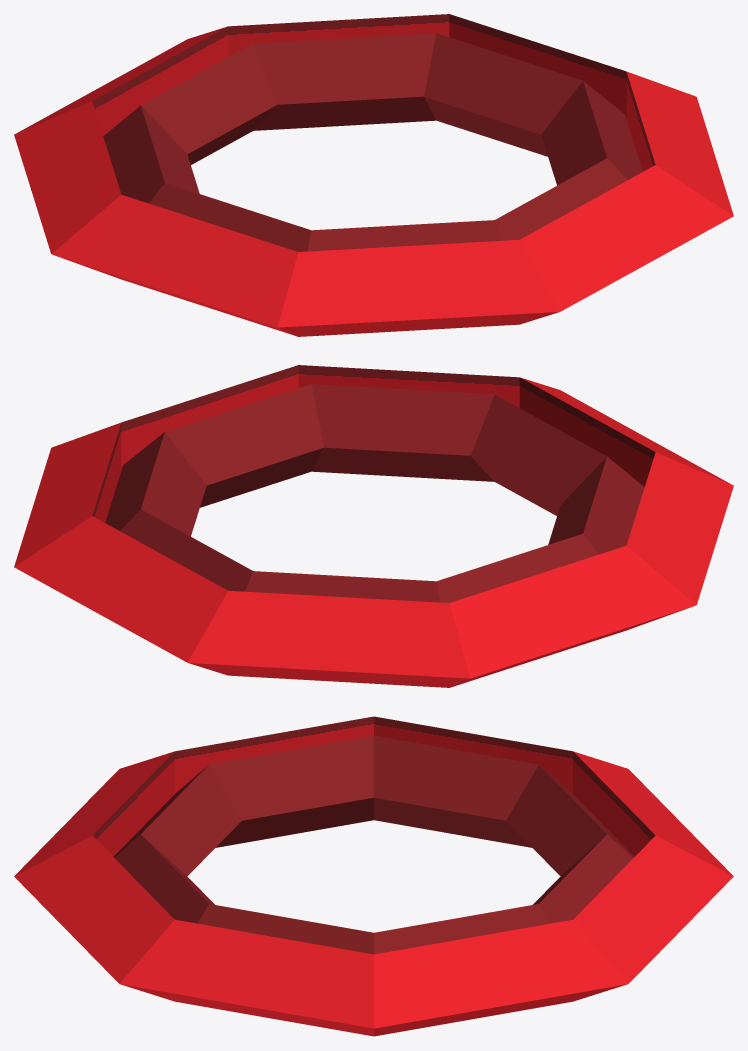
The model's file is projector_ring.obj.
3 views of the same model, one above another, from view 1: azimuth 30°, elevation 25°; view 2: azimuth 150°, elevation 25°; view 3: azimuth 270°, elevation 25° (orthographic). The views are drawn at different scales.
Parts seen in each view (by area): view 1: o_ring; view 2: o_ring; view 3: o_ring.
Part boxes in pixels (x1,y1,x2,y2): o_ring: [14, 14, 733, 336]; o_ring: [14, 365, 733, 687]; o_ring: [14, 716, 733, 1036].
Bounding box in the file's own units: 0.772 × 0.1 × 0.772.
